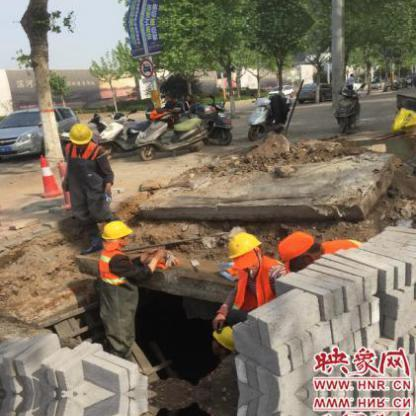helmet: (223, 231, 264, 269), (98, 221, 135, 245), (65, 118, 94, 146)
